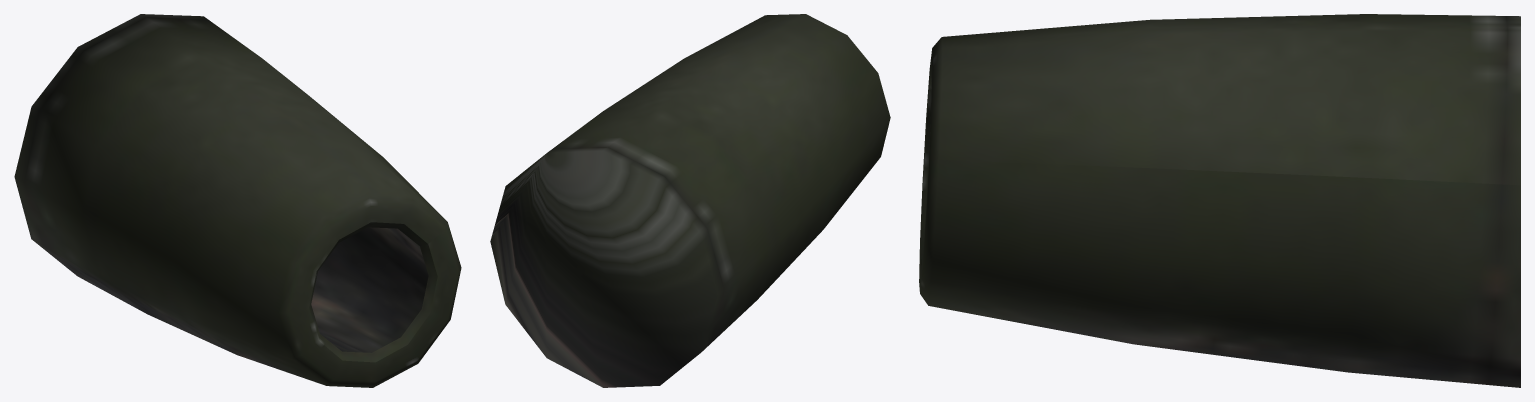
Rendered from teava.obj.
3 renders of one model, left to right at view 1: azimuth 30°, elevation 25°; view 2: azimuth 150°, elevation 25°; view 3: azimuth 270°, elevation 25°, orthographic. The views are drawn at different scales.
Visible parts, largest first — view 1: Tank.004_Tank.004; view 2: Tank.004_Tank.004; view 3: Tank.004_Tank.004.
Boxes of the visible parts, x1,y1,x2,y2 form: Tank.004_Tank.004: [14, 14, 461, 387]; Tank.004_Tank.004: [490, 14, 890, 387]; Tank.004_Tank.004: [919, 14, 1520, 387].
Bounding box in the file's own units: 21.63 × 21.84 × 34.93.
Materials: 1 (1 with a texture image).
